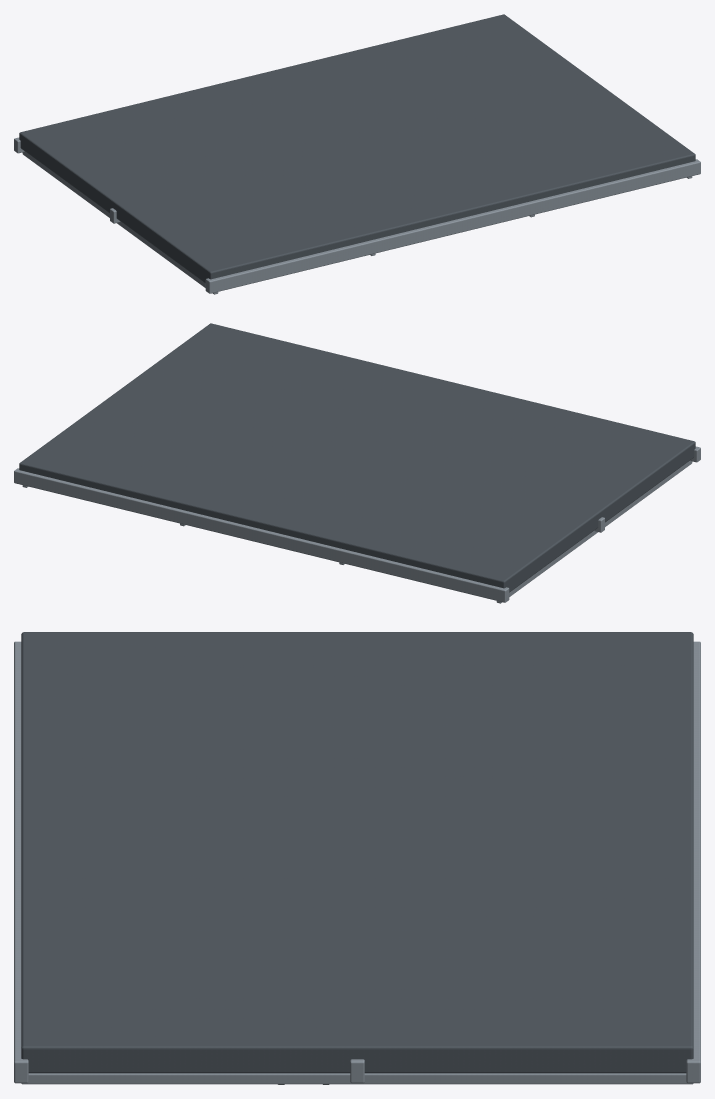
The model's file is NA_GalleryCeilingBay_L_G02_LOD0.fbx.
3 renders of one model, top to bottom at view 1: azimuth 30°, elevation 25°; view 2: azimuth 150°, elevation 25°; view 3: azimuth 270°, elevation 25°, orthographic. The views are drawn at different scales.
Visible parts, largest first — view 1: NA_GalleryCeilingBay_L_G02_LOD0; view 2: NA_GalleryCeilingBay_L_G02_LOD0; view 3: NA_GalleryCeilingBay_L_G02_LOD0.
Boxes of the visible parts, x1,y1,x2,y2 form: NA_GalleryCeilingBay_L_G02_LOD0: (14, 14, 700, 294); NA_GalleryCeilingBay_L_G02_LOD0: (14, 323, 700, 603); NA_GalleryCeilingBay_L_G02_LOD0: (14, 632, 700, 1084).
Size of the model in its own units: 20.5 by 1.36 by 14.14.
